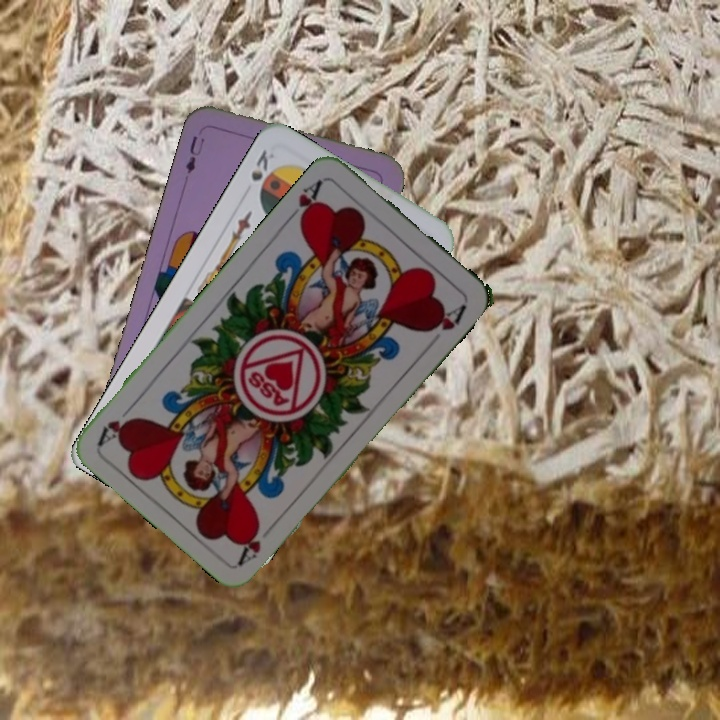EU: (181, 131, 208, 176)
HA: (282, 175, 325, 230), (234, 518, 279, 567)
SK: (247, 145, 277, 184)
